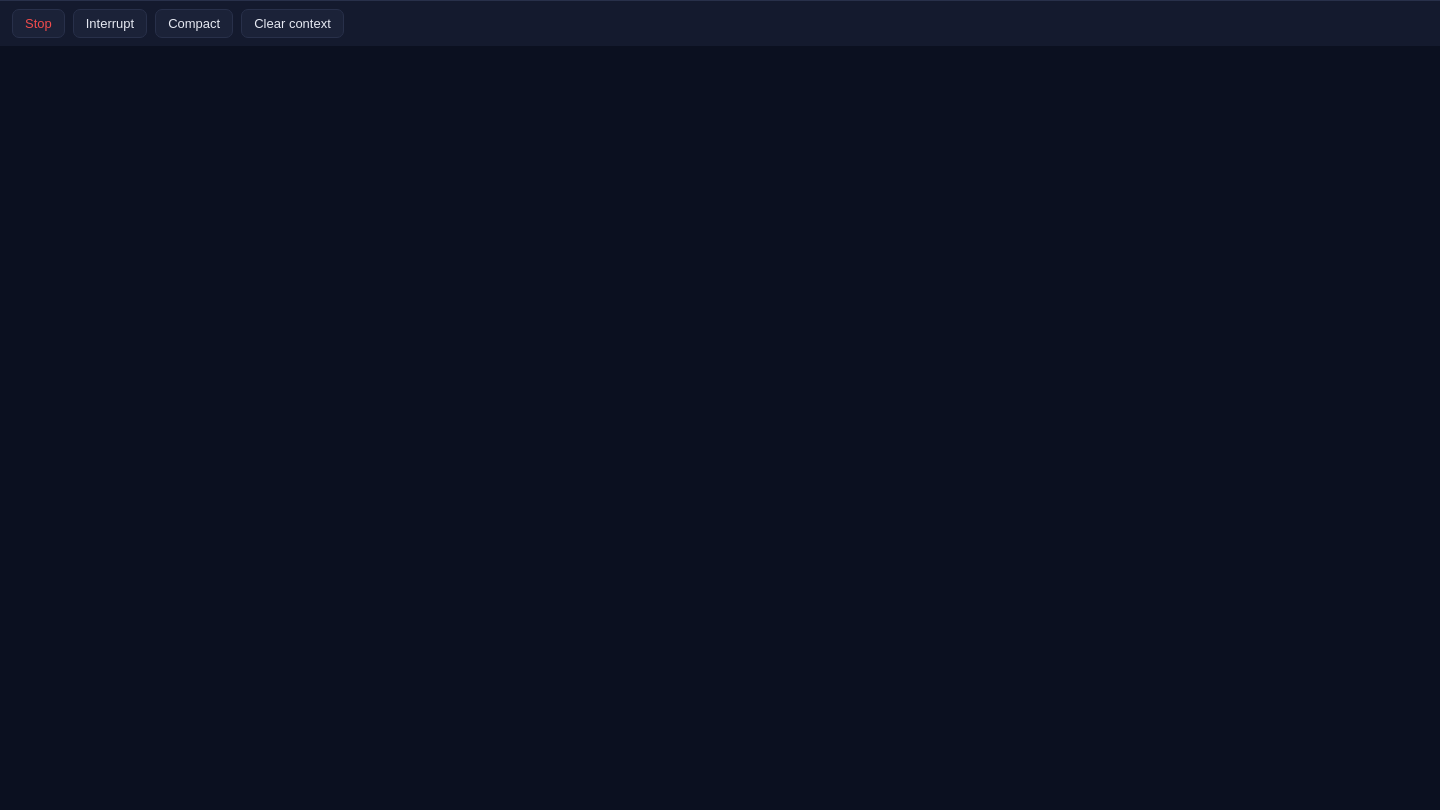
Test: Compact button › says what the dialog promises - nothing is sent to the session
Click the button with class "act-btn" showing "Compact".
click(194, 24)  # box [155,9,233,38]
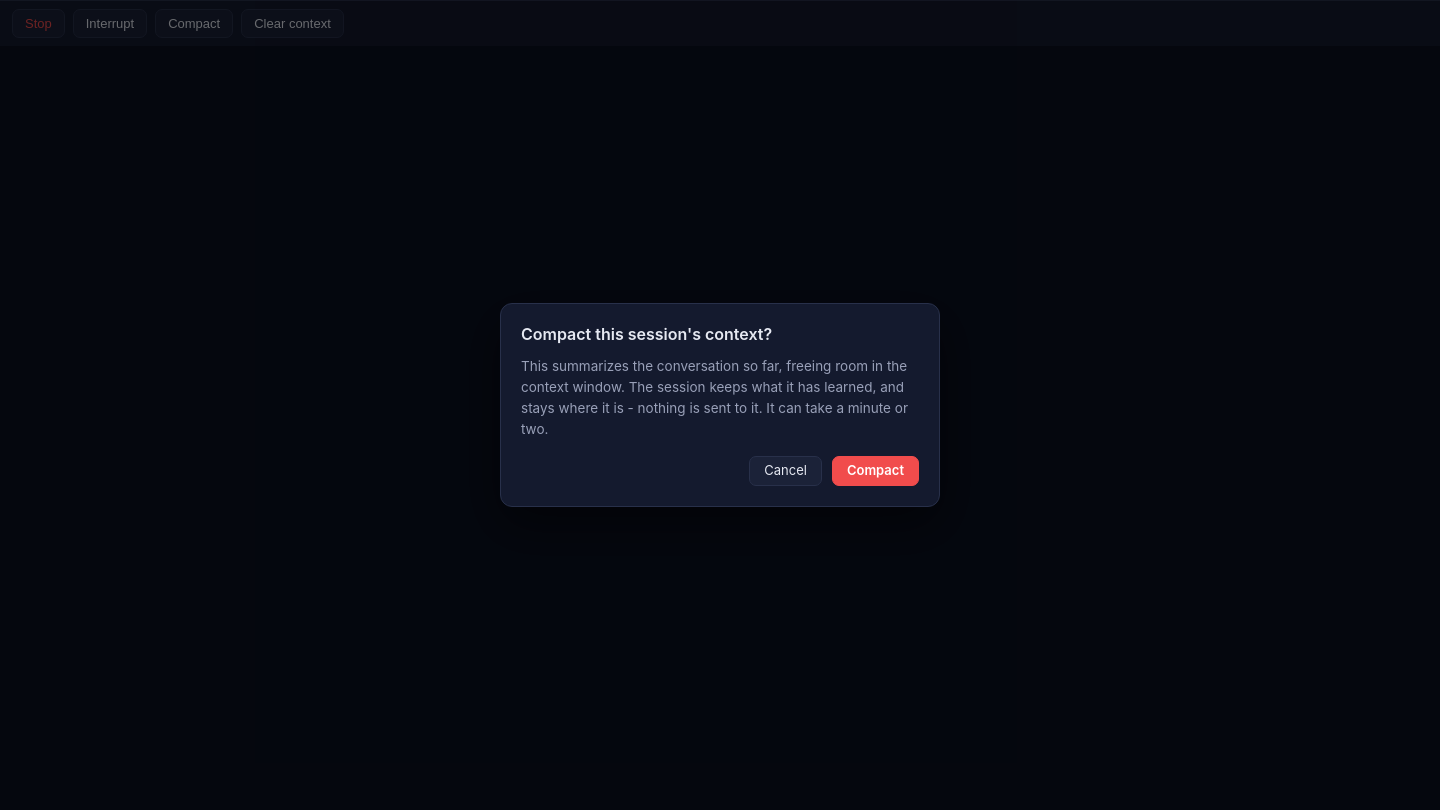
Now the dialog with class "ui-confirm" shows "nothing is sent to it", box [521,358,912,437]
